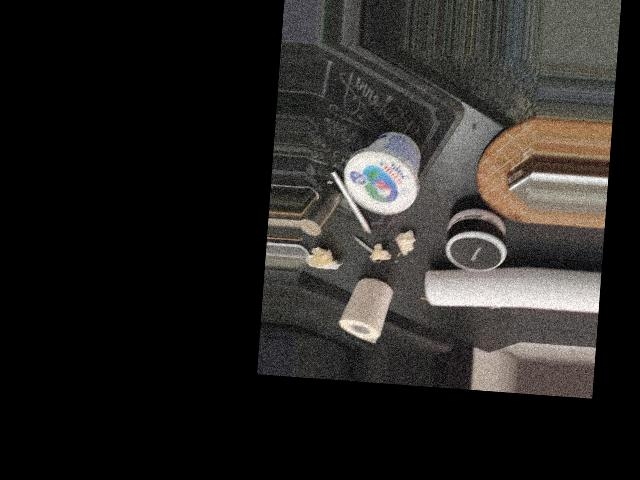cotage: (341, 123, 419, 211)
